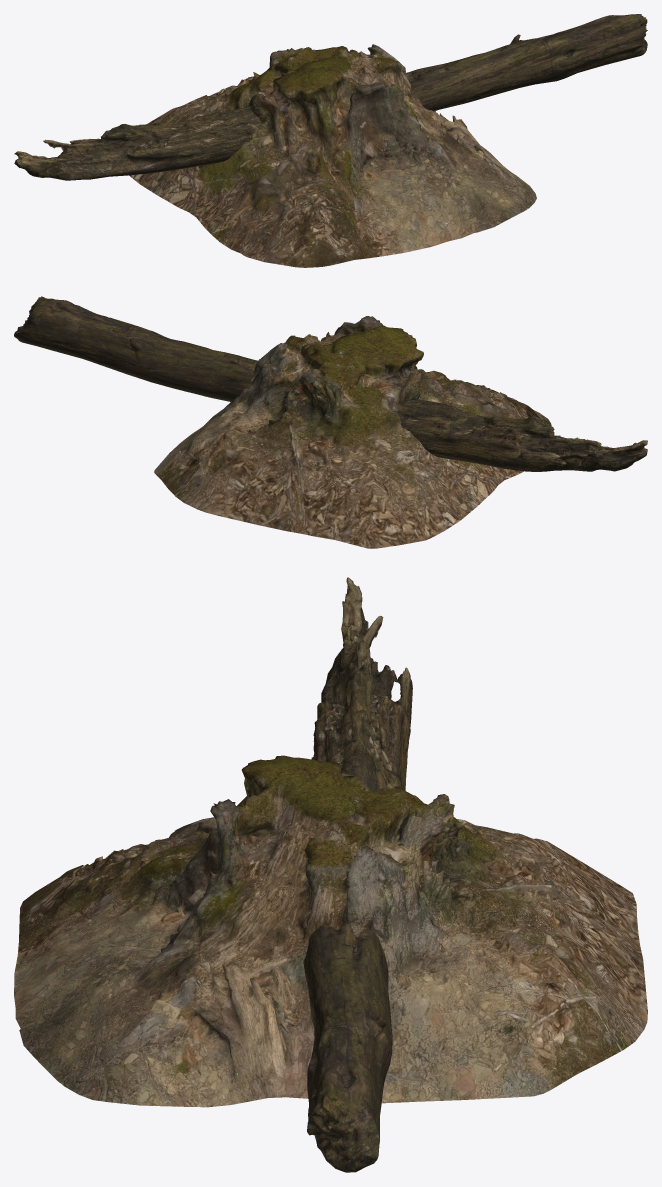
File: nature_logs.glb
The picture shows the model from 3 angles, top to bottom: view 1: azimuth 30°, elevation 25°; view 2: azimuth 150°, elevation 25°; view 3: azimuth 270°, elevation 25°; orthographic projection. The views are drawn at different scales.
Visible parts, largest first — view 1: tree_stump_01, dead_tree_trunk; view 2: tree_stump_01, dead_tree_trunk; view 3: tree_stump_01, dead_tree_trunk.
Boxes of the visible parts, x1,y1,x2,y2 form: tree_stump_01: [129, 44, 536, 267]; dead_tree_trunk: [14, 14, 647, 180]; tree_stump_01: [154, 316, 551, 548]; dead_tree_trunk: [14, 296, 647, 471]; tree_stump_01: [14, 755, 647, 1107]; dead_tree_trunk: [303, 577, 412, 1172].
Size of the model in its own units: 3.05 by 0.5725 by 1.59.
2 materials, 2 textured.
